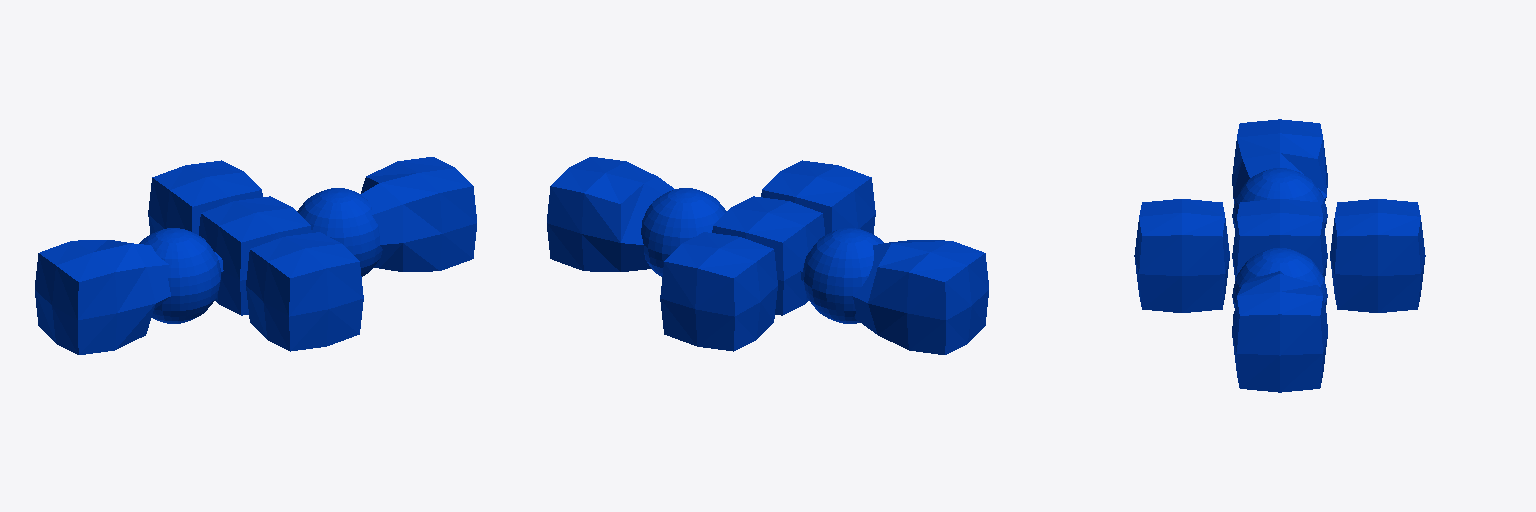
Rendered from space-ship-test-bones-weights.obj.
The picture shows the model from 3 angles: view 1: azimuth 30°, elevation 25°; view 2: azimuth 150°, elevation 25°; view 3: azimuth 270°, elevation 25°; orthographic projection.
Parts seen in each view (by area): view 1: Cube2, Cube1_copy4, sphere6, Cube1, Cube1_copy5; view 2: Cube2, Cube1_copy5, sphere6, Cube1, Cube1_copy4; view 3: Cube2, Cube1_copy5, Cube1_copy4, Cube1, sphere6.
Boxes of the visible parts, box(x1,y1,x2,y2) form: Cube2: box(35, 157, 476, 354); Cube1_copy4: box(246, 232, 363, 351); sphere6: box(139, 188, 382, 323); Cube1: box(199, 196, 311, 315); Cube1_copy5: box(148, 160, 262, 234); Cube2: box(547, 157, 988, 354); Cube1_copy5: box(660, 232, 777, 351); sphere6: box(641, 188, 883, 323); Cube1: box(712, 196, 824, 315); Cube1_copy4: box(761, 160, 875, 234); Cube2: box(1232, 119, 1327, 392); Cube1_copy5: box(1330, 199, 1425, 312); Cube1_copy4: box(1134, 199, 1229, 312); Cube1: box(1232, 199, 1327, 280); sphere6: box(1232, 168, 1327, 307).
Bounding box in the file's own units: 9.66 × 1.96 × 5.97.